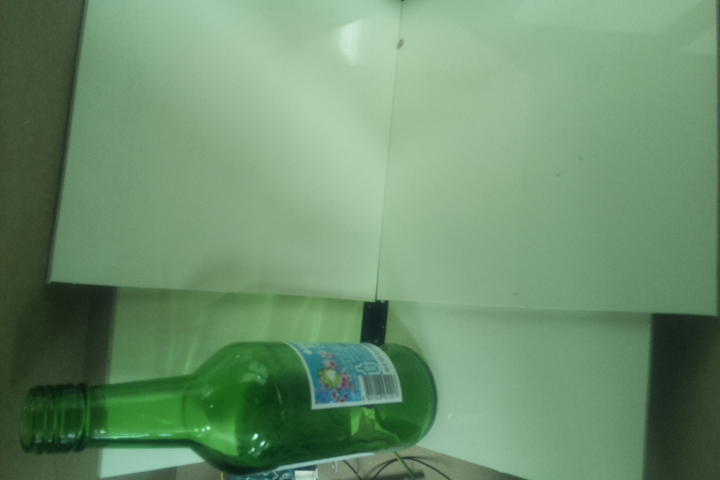soju: (17, 340, 437, 477)
